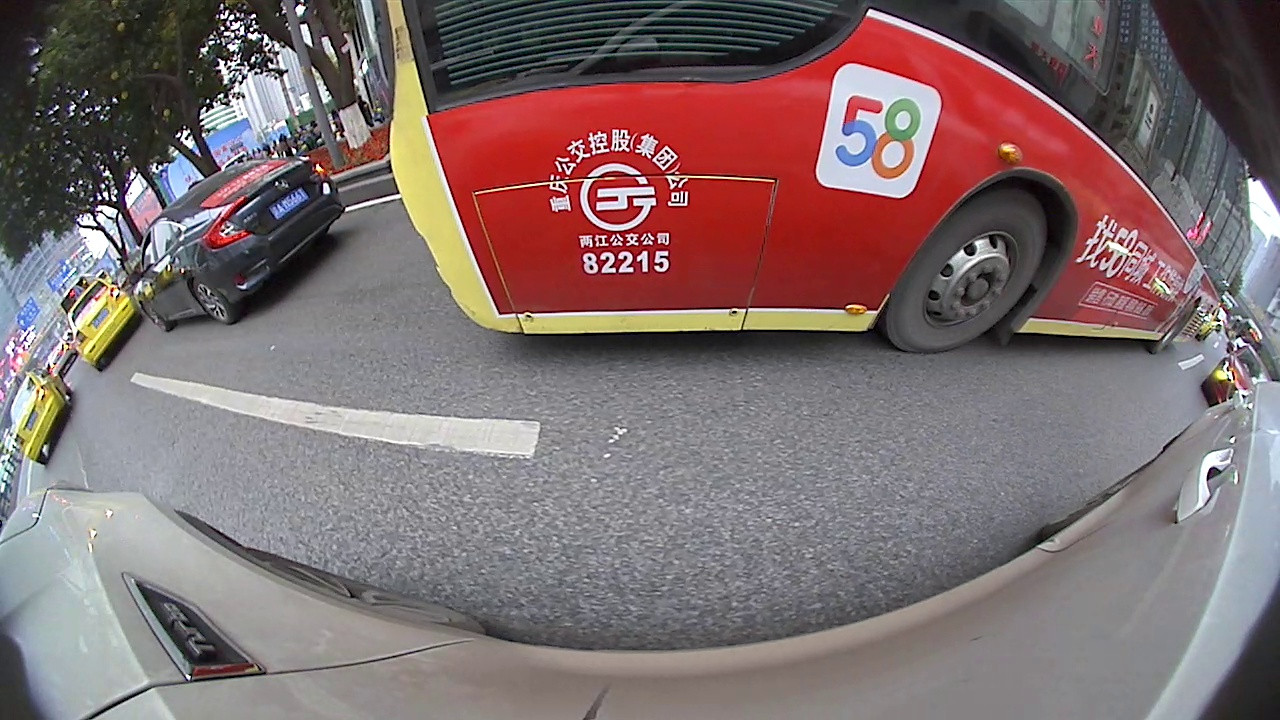bus: (662, 39, 879, 126)
car: (413, 44, 650, 147), (823, 108, 992, 207), (348, 62, 487, 140), (134, 138, 239, 233), (12, 281, 85, 369)
front: (433, 111, 467, 146), (874, 150, 906, 182)
rear: (581, 102, 621, 136), (949, 181, 978, 207)
